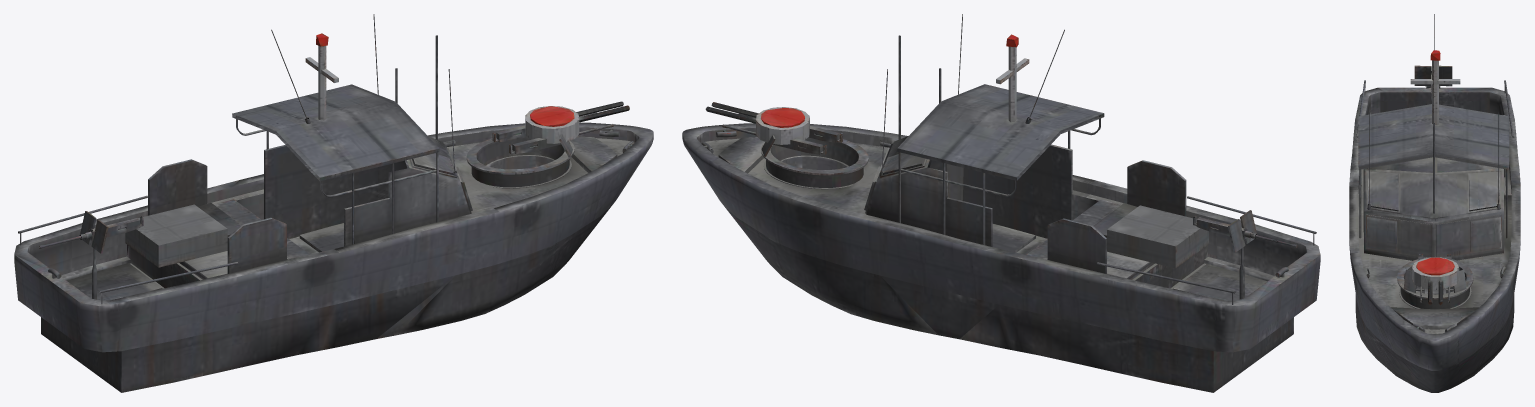
File: fh_battle_e_ship_escort.glb
The picture shows the model from 3 angles, left to right: view 1: azimuth 30°, elevation 25°; view 2: azimuth 150°, elevation 25°; view 3: azimuth 270°, elevation 25°; orthographic projection. The views are drawn at different scales.
Visible parts, largest first — view 1: body; view 2: body; view 3: body.
Part boxes in pixels (x1,y1,x2,y2): body: (14, 14, 653, 392); body: (682, 14, 1320, 392); body: (1349, 14, 1520, 392).
Size of the model in its own units: 1 by 0.4597 by 0.2816.
1 material, 1 textured.
